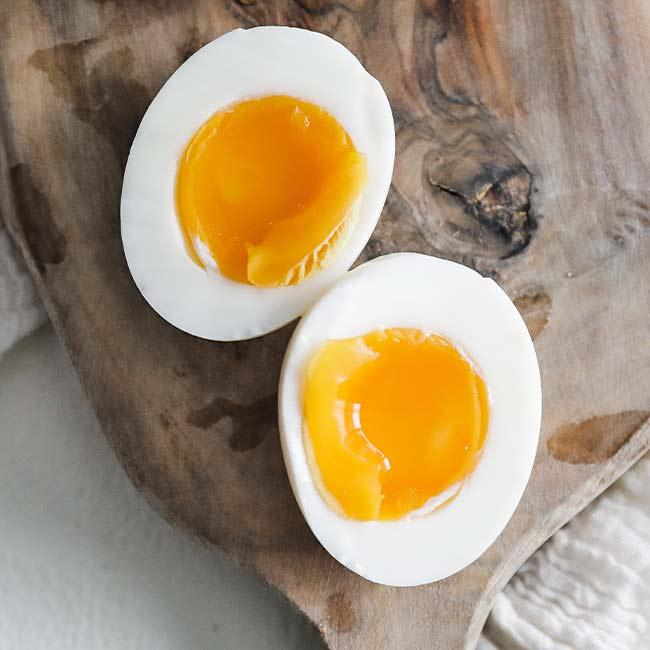eggs: (142, 47, 534, 547)
